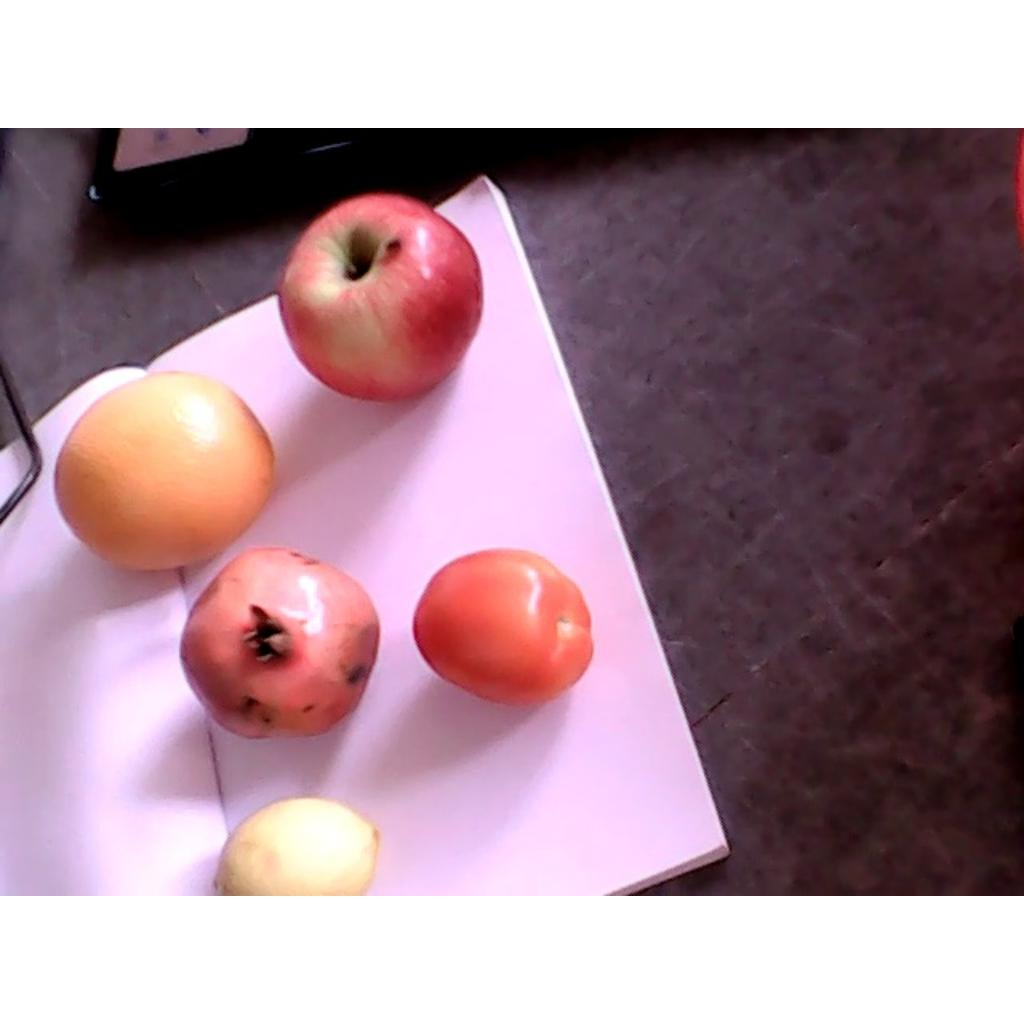apple: (279, 191, 484, 402)
lemon: (214, 798, 379, 894)
orange: (53, 372, 273, 570)
pomegranate: (179, 546, 378, 738)
tomato: (412, 550, 595, 704)
